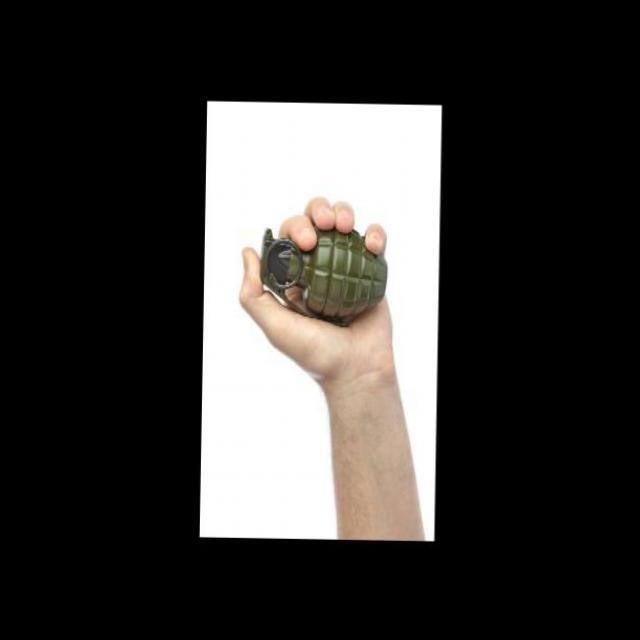grenade: (256, 219, 394, 325)
